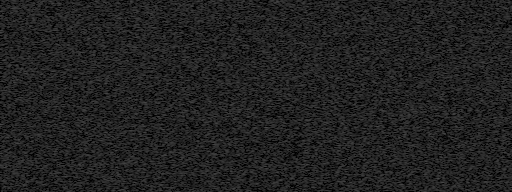wv_usb: (195, 1, 201, 178), (200, 50, 206, 192), (200, 1, 205, 49), (196, 179, 200, 186), (196, 187, 200, 192)
wv_wbfm: (246, 0, 258, 192)
